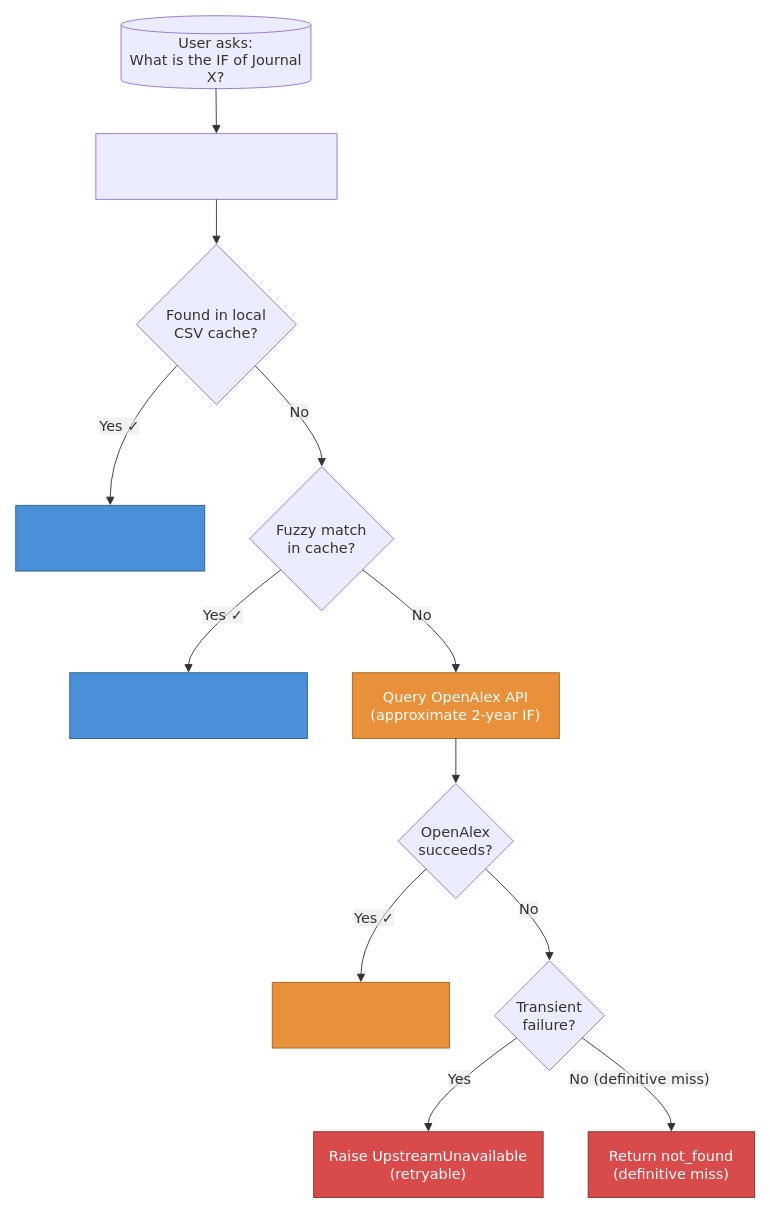
Some shapes in this 770 by 1213 pixel diagram are drawn without their labels. The centre of each missing label's shape, as x and y in pixels:
"Agent invokes: python3 journal_if.py lookup" belongs at [216,166].
"Return result (source: local cache (fuzzy))" belongs at [188,705].
"Return result (source: local cache)" belongs at [110,537].
"Return result (source: OpenAlex)" belongs at [360,1014].
